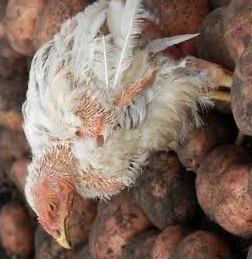Unhealthy: (13, 5, 214, 247)
